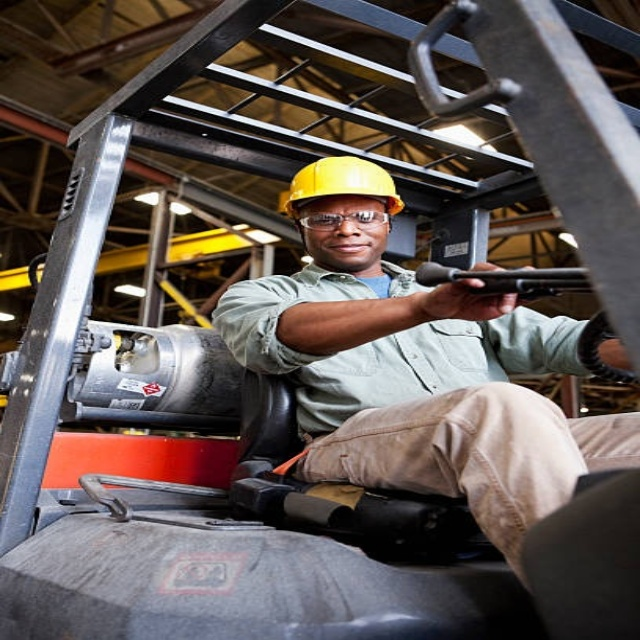Gafas: (296, 210, 389, 231)
Sin_guantes: (416, 257, 544, 320)
Sin_mascara: (320, 237, 376, 259)
